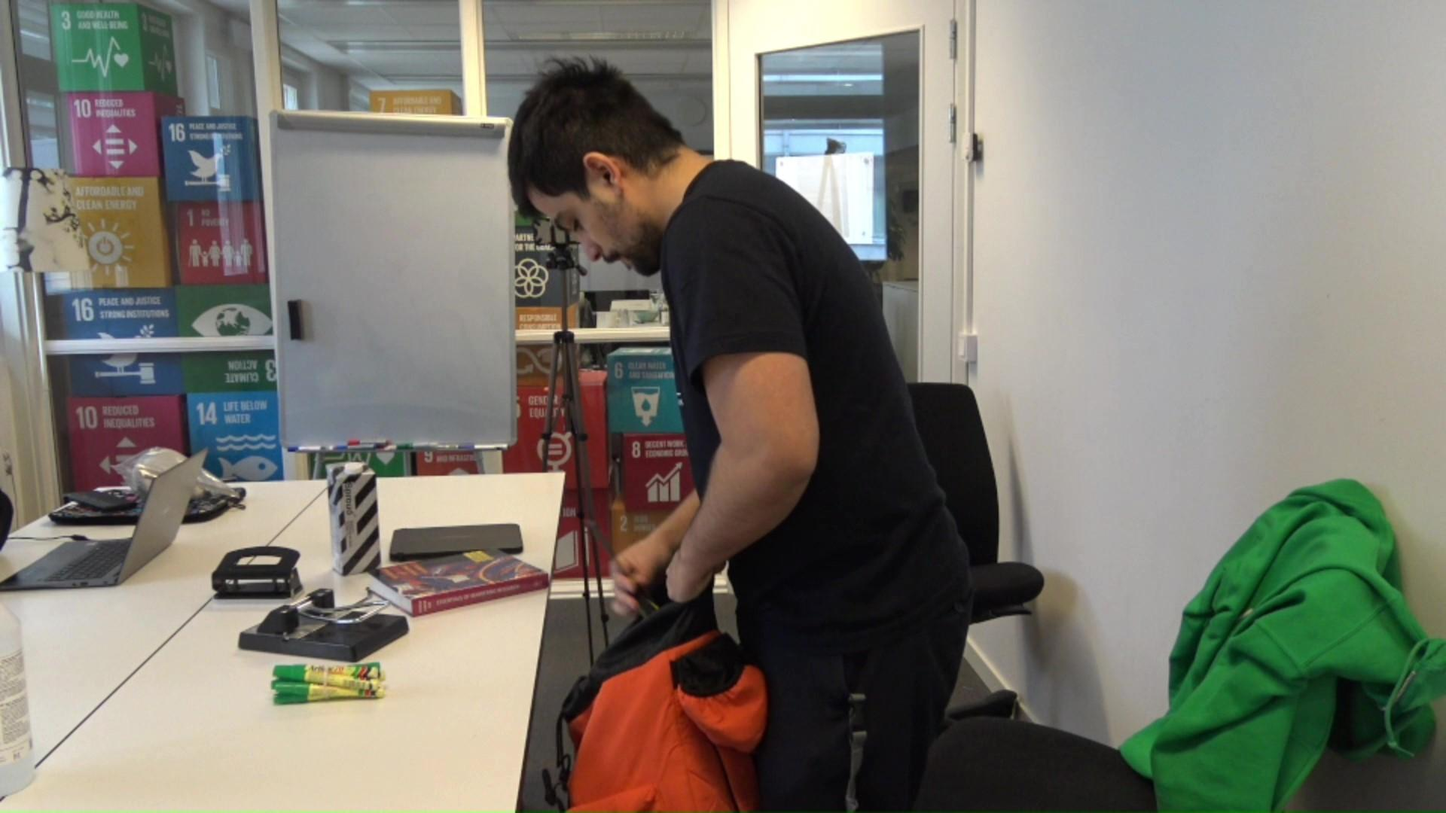shoplifting: (509, 61, 954, 812)
